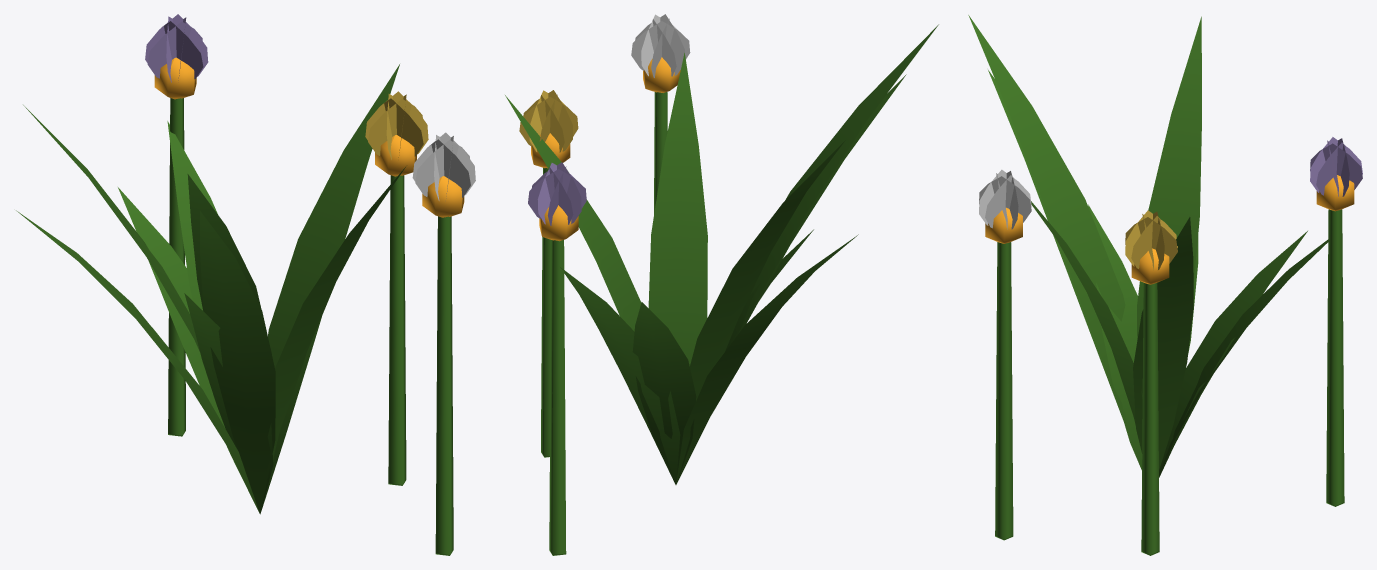
File: tuft-2.gltf
The picture shows the model from 3 angles, left to right: view 1: azimuth 30°, elevation 25°; view 2: azimuth 150°, elevation 25°; view 3: azimuth 270°, elevation 25°; orthographic projection. The views are drawn at different scales.
Bounding box in the file's own units: 0.3414 × 0.3906 × 0.3461.
